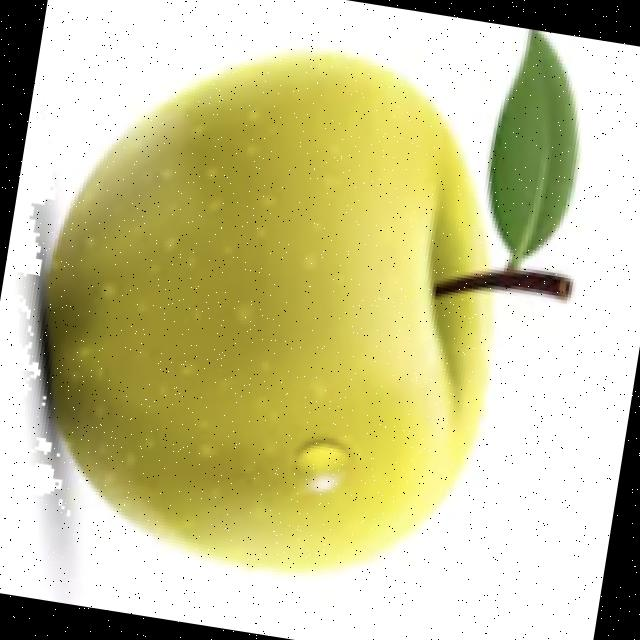apple: (14, 28, 586, 603)
